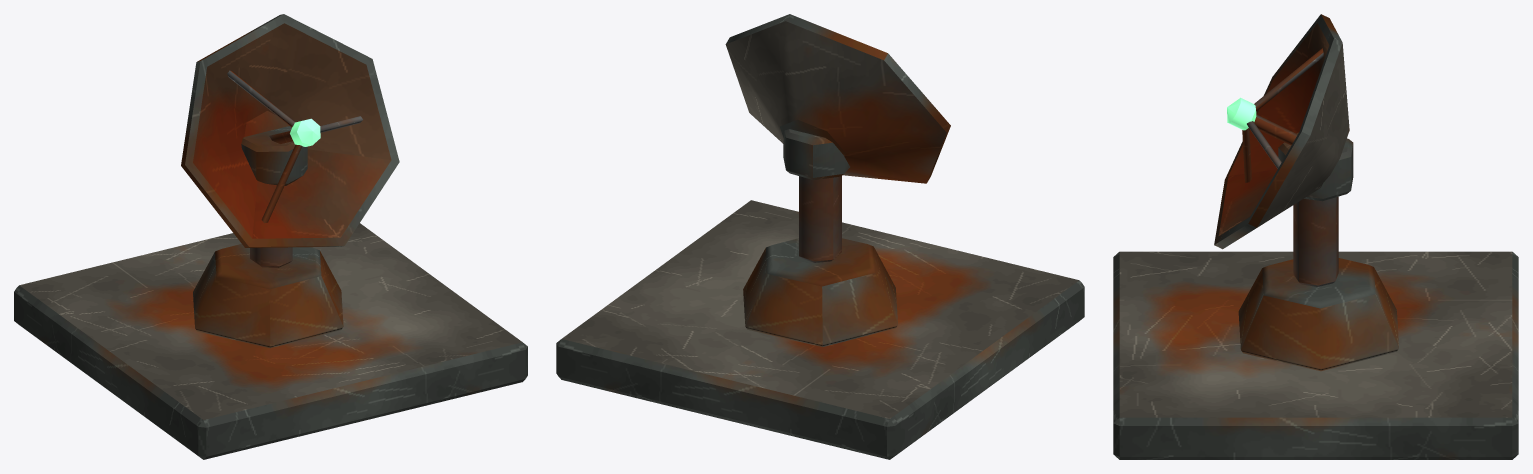
File: R4X_Radar_LOD1.glb
3 renders of one model, left to right at view 1: azimuth 30°, elevation 25°; view 2: azimuth 150°, elevation 25°; view 3: azimuth 270°, elevation 25°, orthographic. The views are drawn at different scales.
Visible parts, largest first — view 1: R4X_Radar_LOD1; view 2: R4X_Radar_LOD1; view 3: R4X_Radar_LOD1.
Boxes of the visible parts, box(x1,y1,x2,y2) form: R4X_Radar_LOD1: box(14, 14, 527, 459); R4X_Radar_LOD1: box(556, 14, 1084, 459); R4X_Radar_LOD1: box(1113, 14, 1518, 459).
Bounding box in the file's own units: 0.52 × 0.4947 × 0.52.
5 materials, 4 textured.
